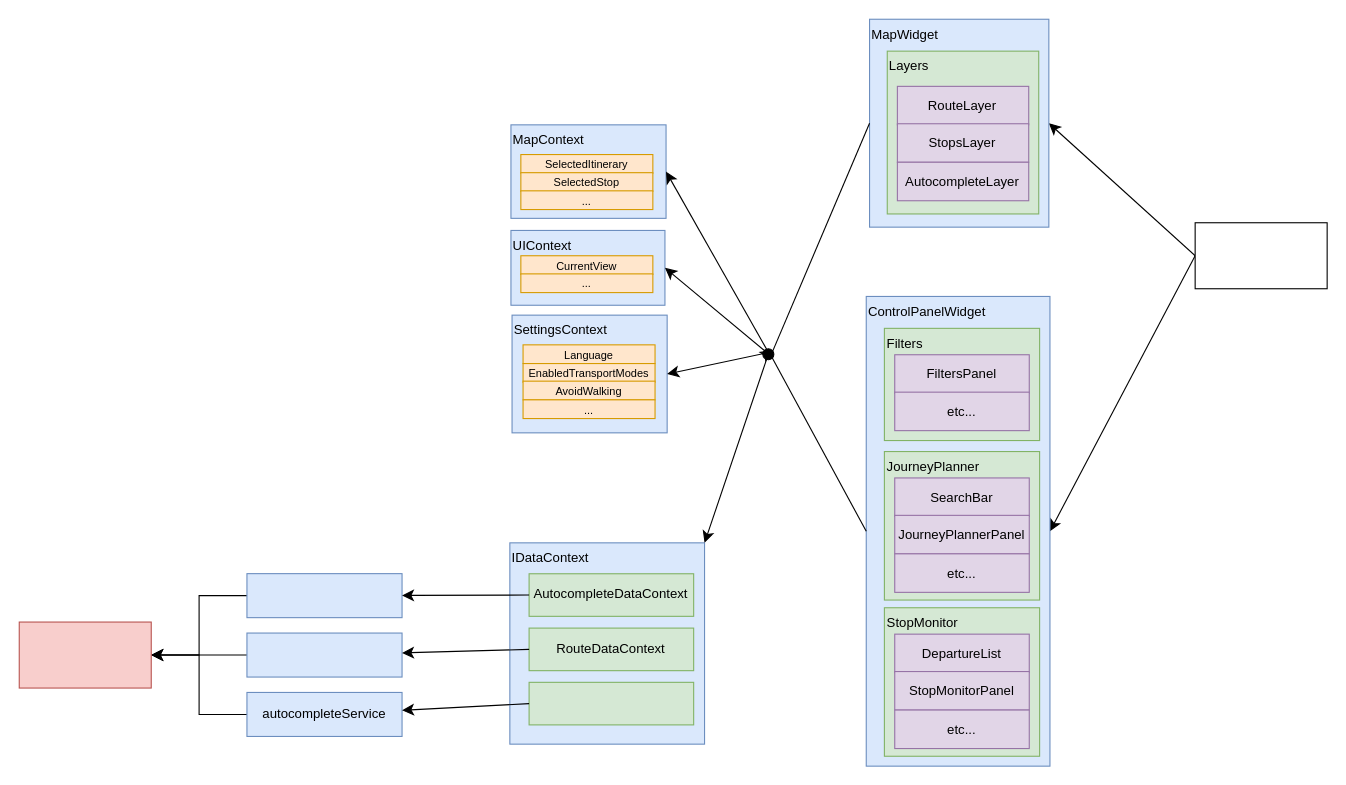
The diagram is 1346 pixels wide and 785 high, and some of its shapes have lost their labels. The shapes that lost their labels are listed below. From the top down, each one's centre as x and y in pixels, then its label:
At point 1260,255: "MainView".
At point 324,595: "stopMonitorService".
At point 84,654: "lvb-APIs".
At point 324,654: "routingService".
At point 611,703: "StopMonitorContext".
